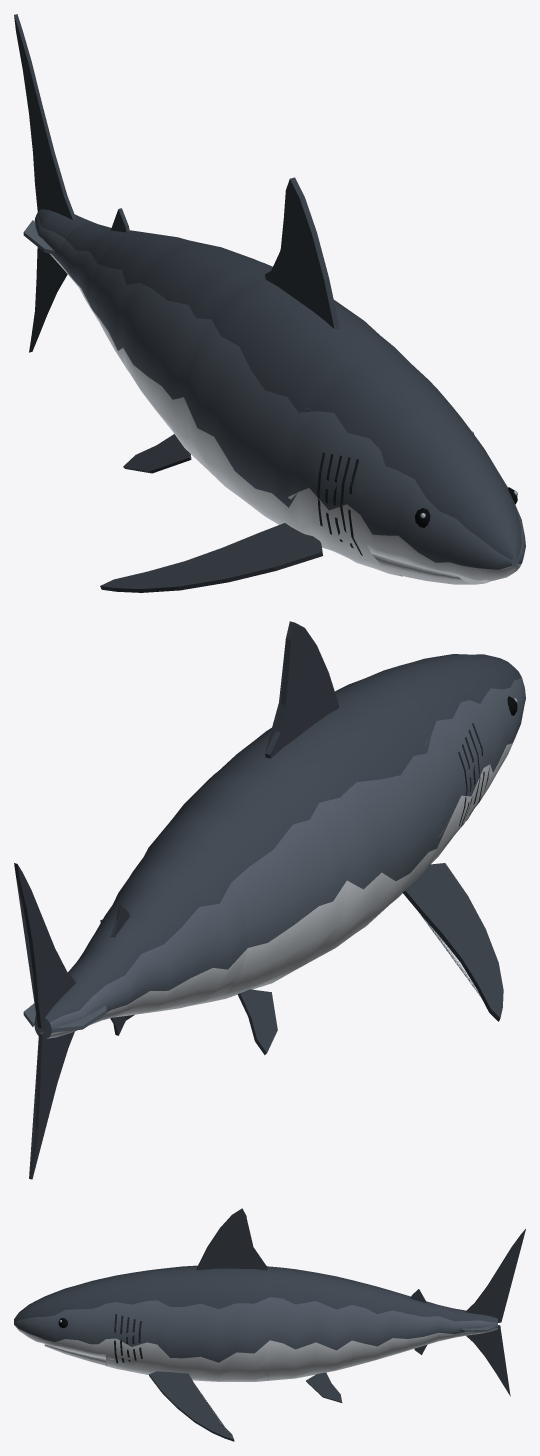
File: legend_great_white.fbx
3 renders of one model, top to bottom at view 1: azimuth 30°, elevation 25°; view 2: azimuth 150°, elevation 25°; view 3: azimuth 270°, elevation 25°, orthographic. The views are drawn at different scales.
Visible parts, largest first — view 1: geo_Head, geo_Spine.F, geo_Spine.B1, geo_Pec.R, geo_Spine.B2, geo_Dorsal1, geo_Tail.Upper, geo_Spine.B3, geo_Tail, geo_Tail.Lower, geo_Jaw; view 2: geo_Spine.B1, geo_Spine.F, geo_Head, geo_Spine.B2, geo_Spine.B3, geo_Pec.R, geo_Dorsal1, geo_Tail.Upper, geo_Tail, geo_Tail.Lower; view 3: geo_Spine.F, geo_Head, geo_Spine.B1, geo_Spine.B2, geo_Dorsal1, geo_Pec.L, geo_Spine.B3, geo_Tail.Upper, geo_Tail.Lower, geo_Tail, geo_Jaw.
Boxes of the visible parts, box(x1,y1,x2,y2) form: geo_Head: box(285, 361, 525, 582); geo_Spine.F: box(184, 277, 425, 550); geo_Spine.B1: box(120, 242, 272, 473); geo_Pec.R: box(100, 523, 322, 592); geo_Spine.B2: box(89, 231, 198, 372); geo_Dorsal1: box(265, 177, 339, 328); geo_Tail.Upper: box(14, 14, 76, 219); geo_Spine.B3: box(59, 208, 138, 319); geo_Tail: box(23, 209, 95, 268); geo_Tail.Lower: box(29, 247, 67, 352); geo_Jaw: box(372, 554, 490, 584); geo_Spine.B1: box(126, 759, 346, 1054); geo_Spine.F: box(215, 683, 451, 967); geo_Head: box(340, 654, 525, 864); geo_Spine.B2: box(97, 843, 247, 1013); geo_Spine.B3: box(68, 904, 171, 1035); geo_Pec.R: box(402, 863, 503, 1021); geo_Dorsal1: box(265, 621, 339, 758); geo_Tail.Upper: box(14, 863, 76, 1028); geo_Tail: box(23, 969, 112, 1038); geo_Tail.Lower: box(29, 1031, 74, 1179); geo_Spine.F: box(157, 1265, 269, 1381); geo_Head: box(14, 1269, 157, 1374); geo_Spine.B1: box(270, 1266, 351, 1402); geo_Spine.B2: box(352, 1280, 408, 1366); geo_Dorsal1: box(196, 1208, 267, 1270); geo_Pec.L: box(149, 1371, 234, 1441); geo_Spine.B3: box(408, 1289, 454, 1354); geo_Tail.Upper: box(465, 1229, 525, 1322); geo_Tail.Lower: box(466, 1325, 510, 1396); geo_Tail: box(454, 1308, 497, 1337); geo_Jaw: box(44, 1344, 113, 1365).
Bounding box in the file's own units: 0.4629 × 0.404 × 1.
